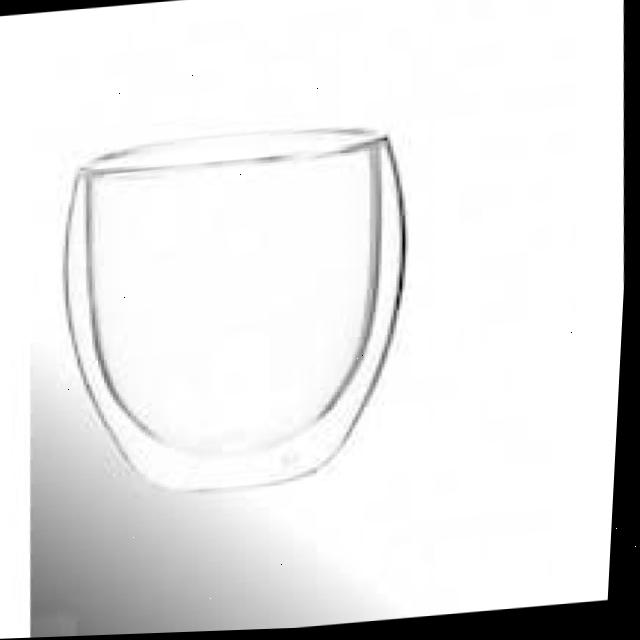Dry: (41, 109, 437, 514)
